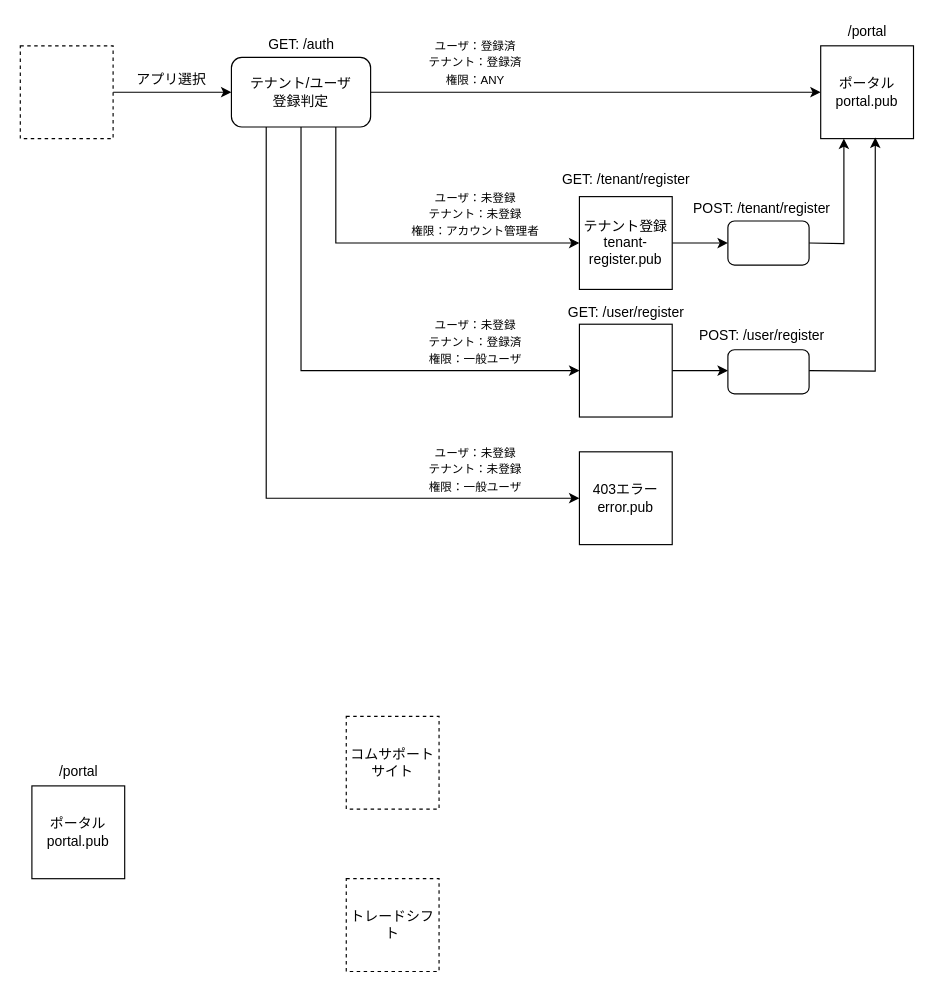
Image size: 934x992. Some labels were removed from this diagram. Each missing label, with the centre of its shape:
"Tradeshift" belongs at point (66, 92).
"テナント/ユーザ DB登録" belongs at point (768, 242).
"ユーザ DB登録" belongs at point (768, 371).
"ユーザ登録 user-register.pub" belongs at point (625, 370).
